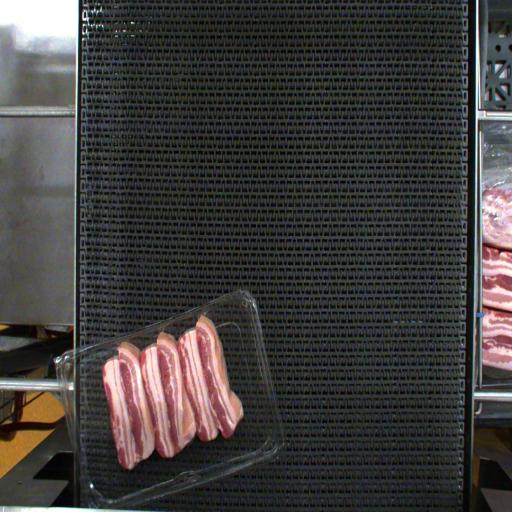packaging-error: (188, 298, 211, 328)
